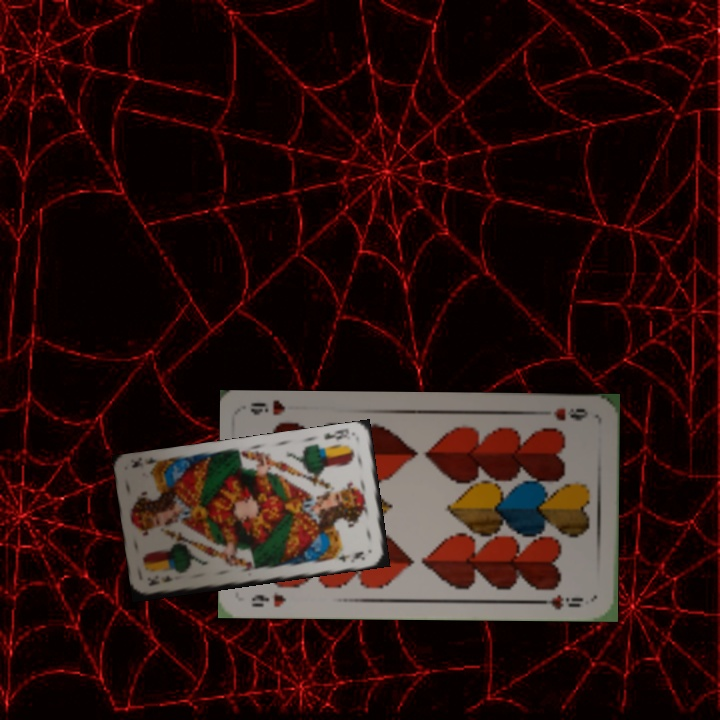EK: (320, 425, 350, 443), (144, 572, 175, 589)
H9: (248, 589, 289, 610), (549, 404, 590, 423)
